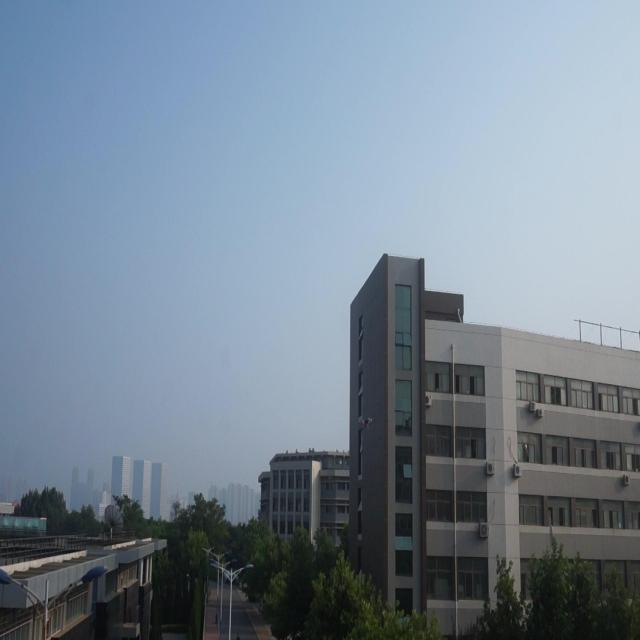drone: (359, 411, 377, 434)
